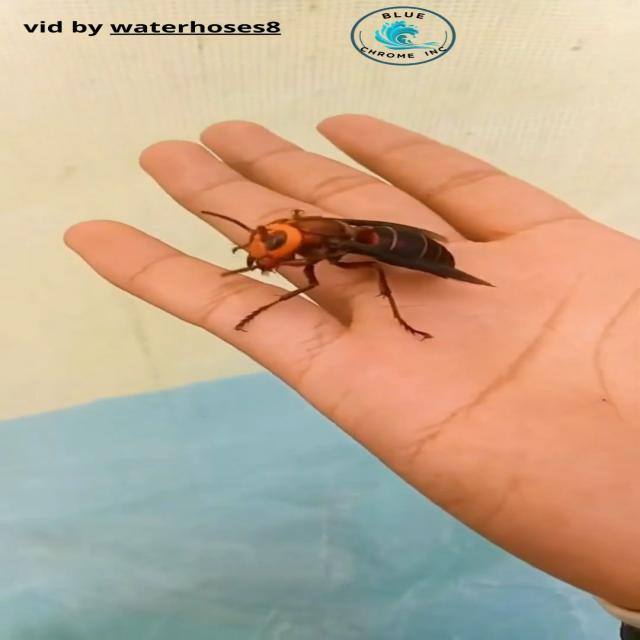Hornets: (197, 205, 502, 341)
